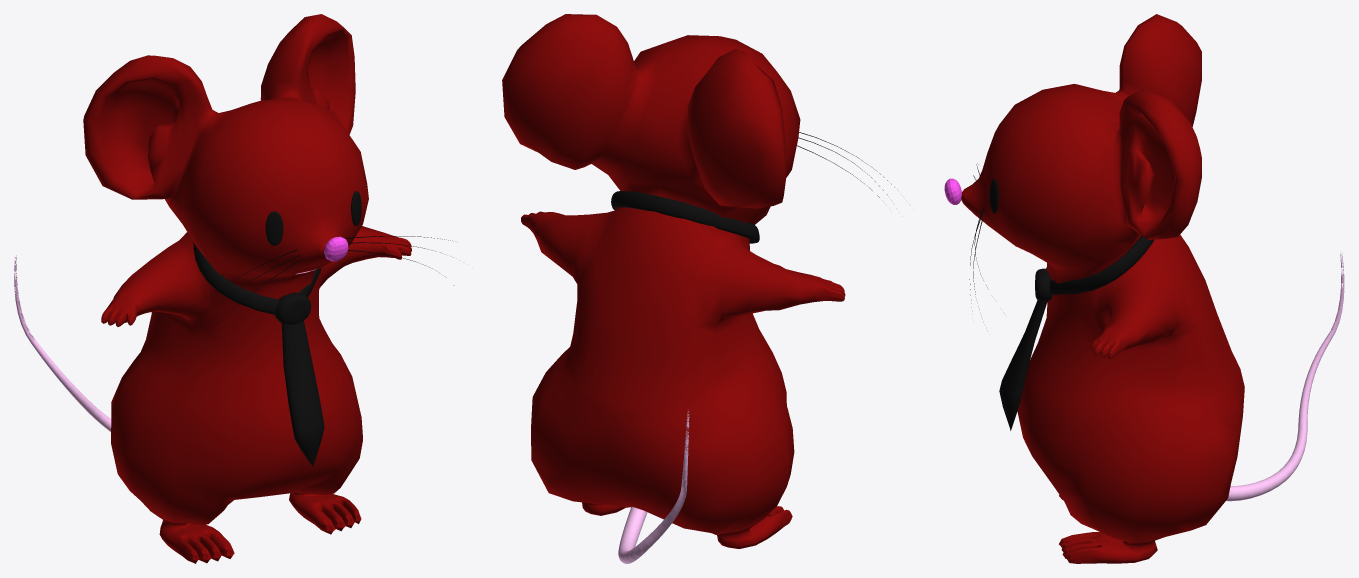
Rendered from Real_Mouse.FBX.
3 views of the same model, side by side, from view 1: azimuth 30°, elevation 25°; view 2: azimuth 150°, elevation 25°; view 3: azimuth 270°, elevation 25° (orthographic). The views are drawn at different scales.
Parts seen in each view (by area): view 1: StaticMesh; view 2: StaticMesh; view 3: StaticMesh.
Part boxes in pixels (box(x1,y1,x2,y2)): StaticMesh: box(14, 14, 453, 563); StaticMesh: box(502, 14, 897, 563); StaticMesh: box(944, 14, 1344, 563).
Bounding box in the file's own units: 34.62 × 38.63 × 49.94.
